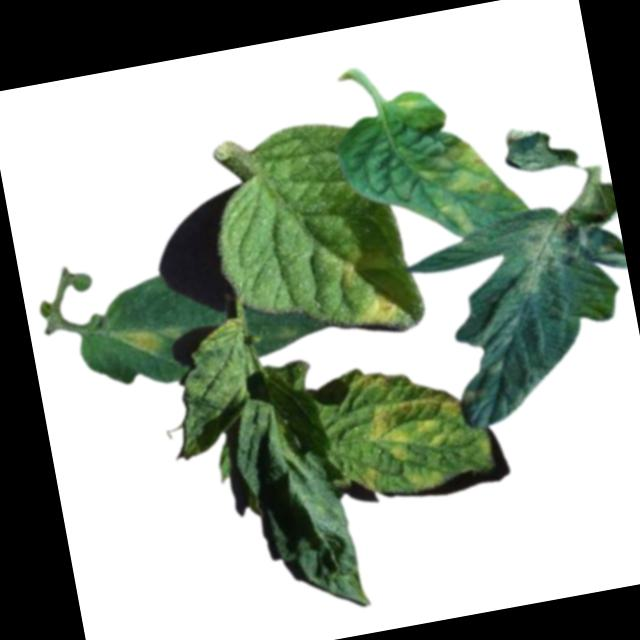Leaf_Mold: (351, 353, 469, 463), (417, 130, 518, 240), (498, 214, 588, 299), (349, 292, 398, 333), (114, 323, 165, 360), (353, 461, 380, 494), (335, 263, 355, 290)
